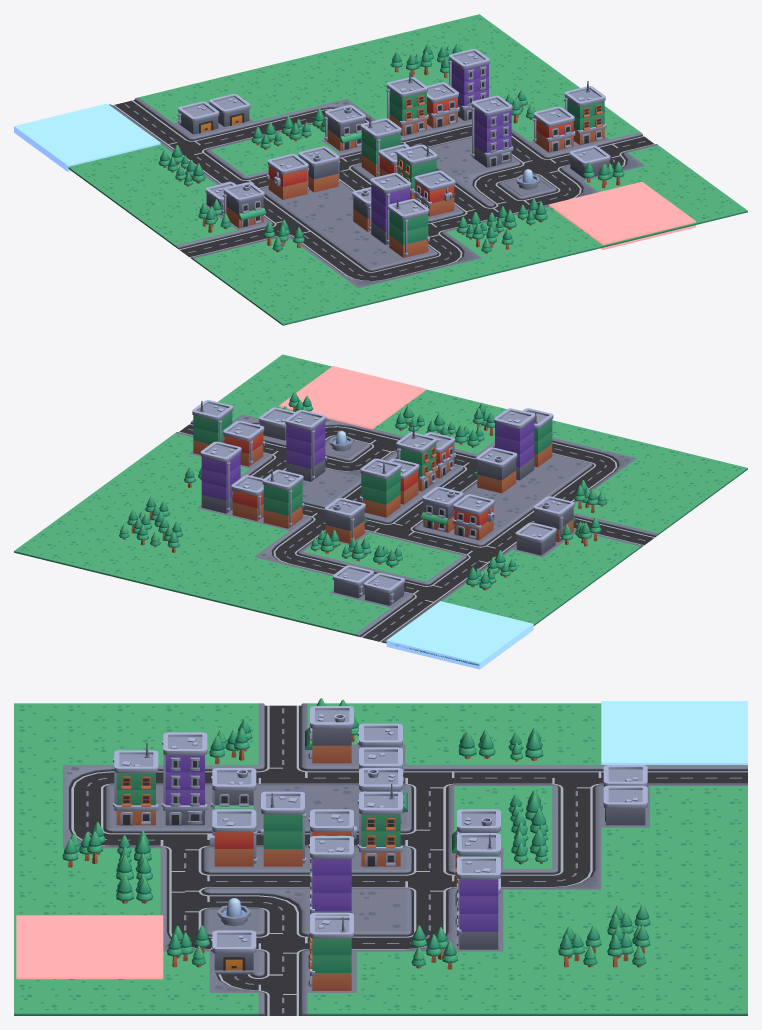
The picture shows the model from 3 angles, top to bottom: view 1: azimuth 30°, elevation 25°; view 2: azimuth 150°, elevation 25°; view 3: azimuth 270°, elevation 25°; orthographic projection. The views are drawn at different scales.
Visible parts, largest first — view 1: Team2Base2, Team1Base2, building-small-c22, building-small-b2, building-small-c23, building-small-b24, building-small-b25, building-small-c2, building-small-a2, building-small-a25, building-small-d24, building-small-d23 (+112 smaller); view 2: Team1Base2, Team2Base2, building-small-c22, building-small-c23, building-small-b24, building-small-b23, building-small-c2, building-small-d2, building-small-a2, building-small-b25, building-small-b22, building-small-d23 (+118 smaller); view 3: Team2Base2, Team1Base2, building-small-c2, building-small-c23, building-small-b25, building-small-b2, building-small-b23, building-small-b22, building-small-c22, building-small-a22, building-small-d24, building-garage24 (+163 smaller).
Part boxes in pixels (box(x1,y1,x2,y2)): Team2Base2: box(549, 181, 695, 249); Team1Base2: box(14, 103, 160, 171); building-small-c22: box(468, 95, 515, 169); building-small-b2: box(384, 197, 432, 259); building-small-c23: box(448, 49, 489, 122); building-small-b24: box(386, 72, 431, 137); building-small-b25: box(564, 81, 608, 146); building-small-c2: box(367, 173, 411, 246); building-small-a2: box(264, 154, 311, 201); building-small-a25: box(530, 106, 578, 154); building-small-d24: box(220, 182, 267, 230); building-small-d23: box(321, 105, 365, 153); Team1Base2: box(386, 601, 533, 669); Team2Base2: box(279, 366, 425, 429); building-small-c22: box(285, 409, 329, 483); building-small-c23: box(197, 441, 241, 515); building-small-b24: box(259, 469, 307, 530); building-small-b23: box(359, 458, 404, 519); building-small-c2: box(494, 408, 538, 482); building-small-d2: box(472, 447, 520, 495); building-small-a2: box(450, 494, 497, 542); building-small-b25: box(188, 400, 233, 456); building-small-b22: box(396, 427, 440, 493); building-small-d23: box(324, 498, 368, 545); Team2Base2: box(16, 915, 163, 979); Team1Base2: box(601, 701, 747, 764); building-small-c2: box(160, 732, 209, 827); building-small-c23: box(454, 856, 503, 951); building-small-b25: box(307, 915, 356, 992); building-small-b2: box(112, 742, 160, 827); building-small-b23: box(356, 783, 405, 868); building-small-b22: box(258, 791, 307, 868); building-small-c22: box(307, 836, 356, 930); building-small-a22: box(209, 809, 258, 868); building-small-d24: box(305, 706, 356, 765); building-garage24: box(209, 930, 258, 974).
Bounding box in the file's own units: 105 × 12.95 × 105.
Materials: 16 (14 with a texture image).
